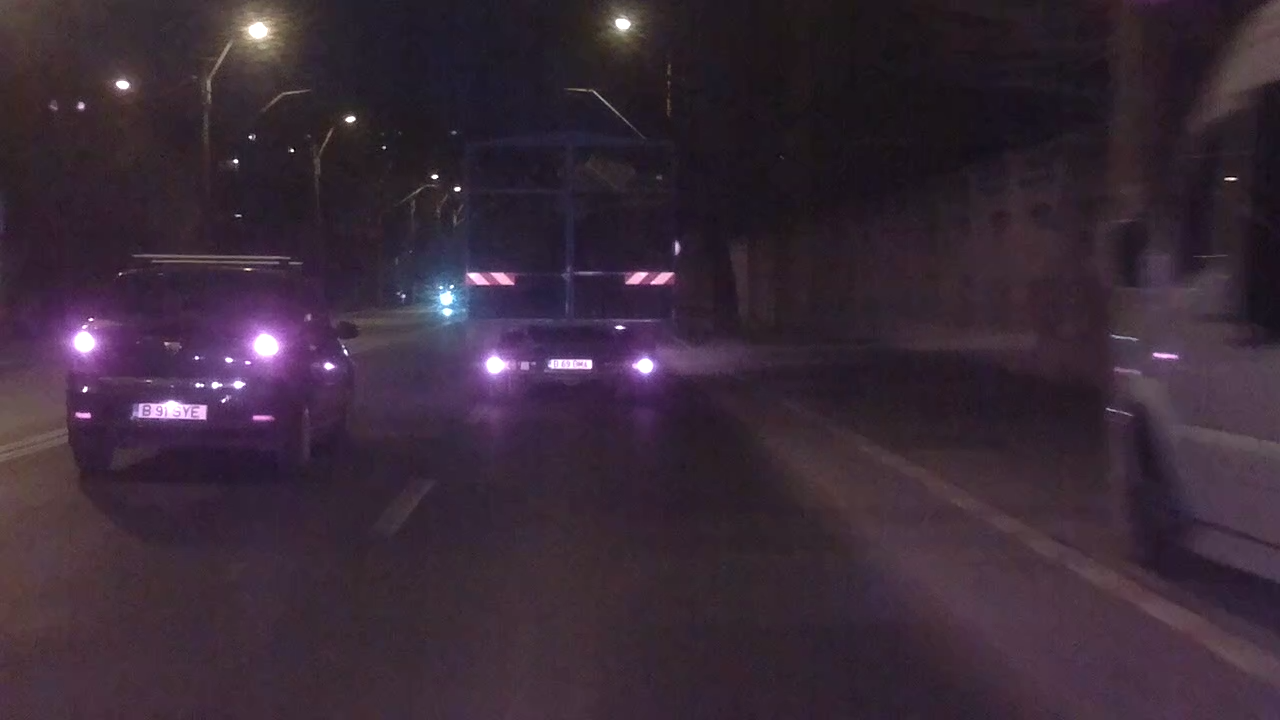license-plate: (131, 400, 210, 421)
